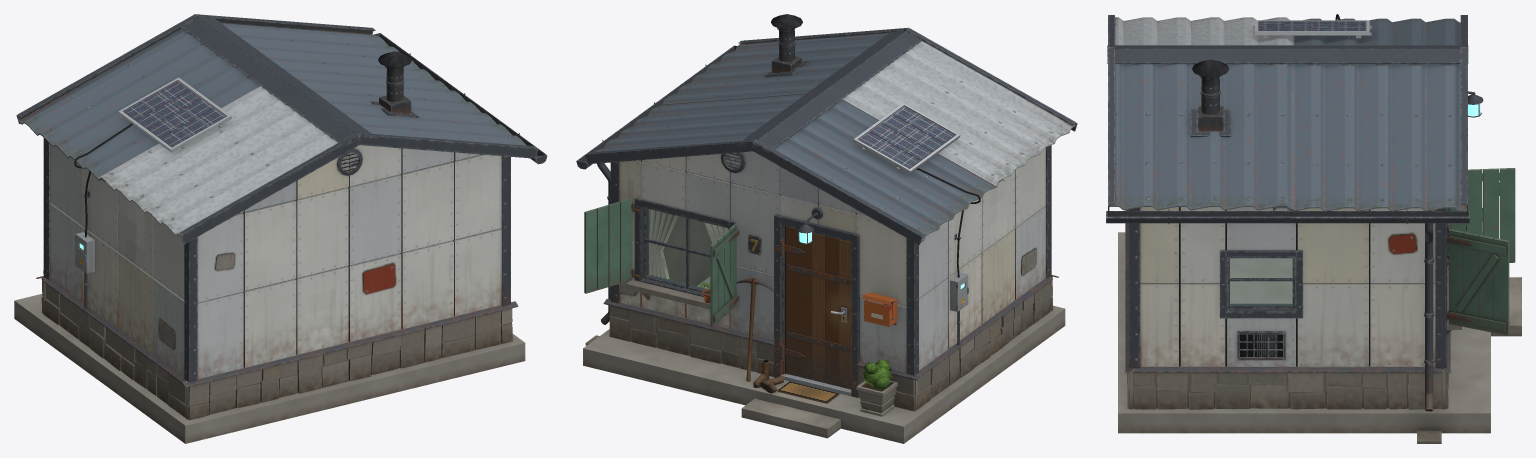
Rendered from casa_minero.fbx.
The picture shows the model from 3 angles, left to right: view 1: azimuth 30°, elevation 25°; view 2: azimuth 150°, elevation 25°; view 3: azimuth 270°, elevation 25°; orthographic projection. The views are drawn at different scales.
Visible parts, largest first — view 1: casa_paredes, casa_techo, casa_zocalo, casa_base, casa_panel_solar, casa_chimenea, casa_canalon; view 2: casa_techo, casa_paredes, casa_base, casa_zocalo, puerta, puerta_marco, ventana_frontal_contraventana_izq, casa_panel_solar, ventana_frontal_cristal, ventana_frontal_marco, ventana_frontal_contraventana_der, escalon (+10 smaller); view 3: casa_techo, casa_paredes, casa_base, casa_zocalo, ventana_frontal_contraventana_izq, casa_canalon, ventana_frontal_contraventana_der, ventana_lateral_marco, ventana_lateral_cristal, casa_chimenea, casa_panel_solar, casa_bajante (+2 smaller).
Part boxes in pixels (x1,y1,x2,y2): casa_paredes: [43, 138, 510, 382]; casa_techo: [16, 14, 538, 244]; casa_zocalo: [36, 276, 518, 419]; casa_base: [14, 294, 525, 443]; casa_panel_solar: [118, 77, 232, 152]; casa_chimenea: [371, 51, 419, 117]; casa_canalon: [372, 33, 547, 164]; casa_techo: [585, 27, 1077, 244]; casa_paredes: [610, 145, 1051, 375]; casa_base: [583, 276, 1065, 443]; casa_zocalo: [603, 275, 1058, 411]; puerta: [780, 226, 851, 389]; puerta_marco: [774, 214, 859, 397]; ventana_frontal_contraventana_izq: [584, 198, 634, 293]; casa_panel_solar: [853, 103, 960, 173]; ventana_frontal_cristal: [647, 209, 727, 289]; ventana_frontal_marco: [632, 198, 735, 296]; ventana_frontal_contraventana_der: [710, 224, 739, 327]; escalon: [741, 398, 840, 438]; casa_techo: [1107, 15, 1468, 213]; casa_paredes: [1129, 207, 1446, 369]; casa_base: [1118, 232, 1490, 443]; casa_zocalo: [1125, 209, 1450, 409]; ventana_frontal_contraventana_izq: [1446, 229, 1509, 335]; casa_canalon: [1106, 209, 1469, 224]; ventana_frontal_contraventana_der: [1447, 168, 1515, 262]; ventana_lateral_marco: [1220, 250, 1302, 318]; ventana_lateral_cristal: [1230, 258, 1292, 305]; casa_chimenea: [1191, 59, 1230, 136]; casa_panel_solar: [1252, 20, 1371, 38]; casa_bajante: [1424, 223, 1434, 411].
Size of the model in its own units: 10.58 by 8.18 by 9.42.
3 materials, 1 textured.
